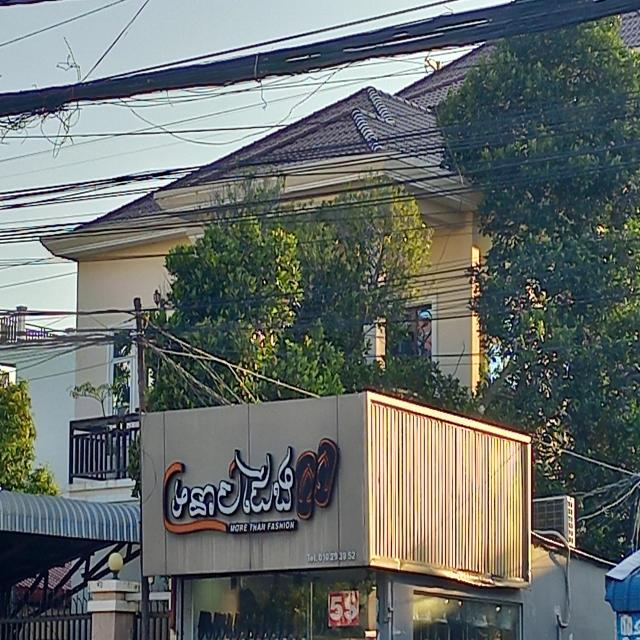Yolov11_80vkh: (160, 441, 296, 541)
